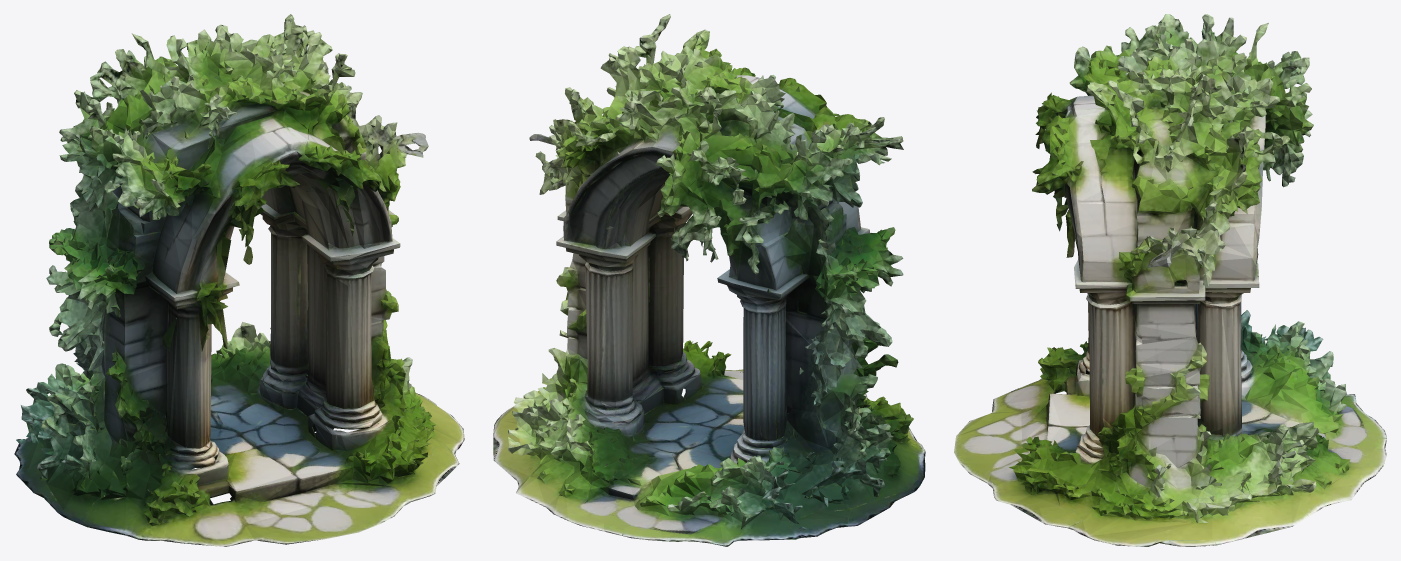
The model's file is generated_ruined_arch.glb.
The picture shows the model from 3 angles, left to right: view 1: azimuth 30°, elevation 25°; view 2: azimuth 150°, elevation 25°; view 3: azimuth 270°, elevation 25°; orthographic projection.
Parts seen in each view (by area): view 1: geometry_0; view 2: geometry_0; view 3: geometry_0.
Boxes of the visible parts, box(x1,y1,x2,y2) form: geometry_0: box(14, 14, 464, 546); geometry_0: box(493, 14, 925, 546); geometry_0: box(954, 14, 1386, 546).
Bounding box in the file's own units: 0.98 × 0.9766 × 0.9355.
1 material, 1 textured.
